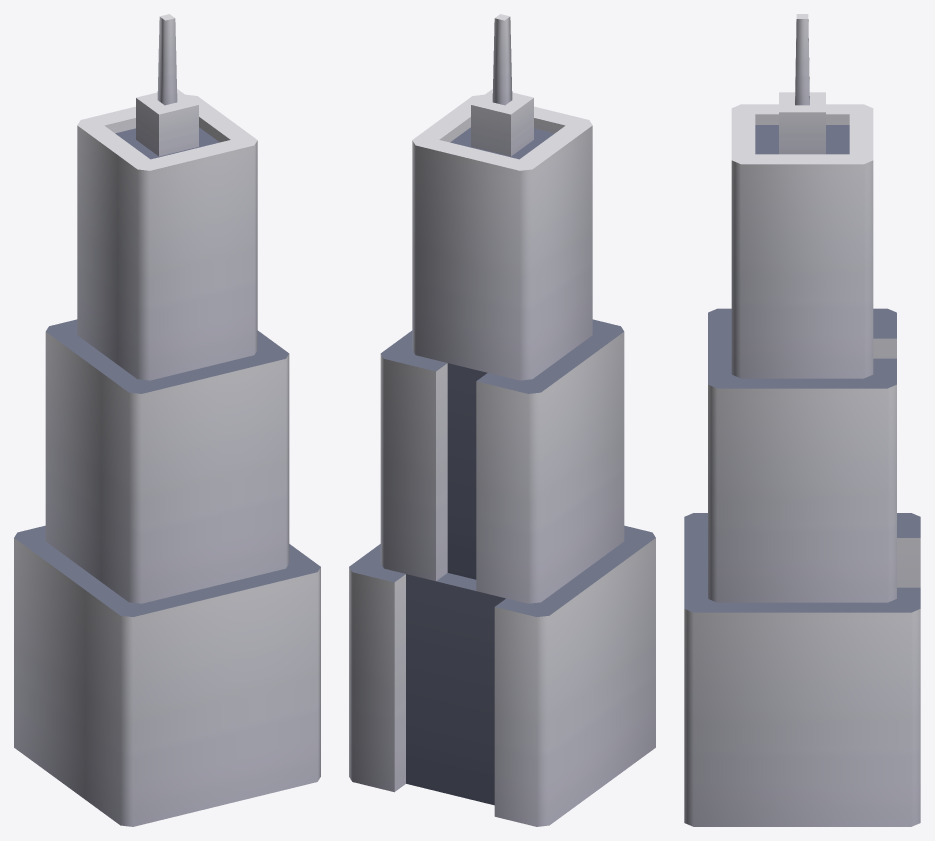
The model's file is low-detail-building-i.glb.
3 renders of one model, left to right at view 1: azimuth 30°, elevation 25°; view 2: azimuth 150°, elevation 25°; view 3: azimuth 270°, elevation 25°, orthographic. The views are drawn at different scales.
Visible parts, largest first — view 1: low-detail-building-i; view 2: low-detail-building-i; view 3: low-detail-building-i.
Boxes of the visible parts, x1=… form: low-detail-building-i: x1=14, y1=14, x2=320, y2=826; low-detail-building-i: x1=349, y1=14, x2=655, y2=826; low-detail-building-i: x1=684, y1=14, x2=920, y2=826.
Size of the model in its own units: 0.5 by 1.77 by 0.5.
Materials: 1 (1 with a texture image).
